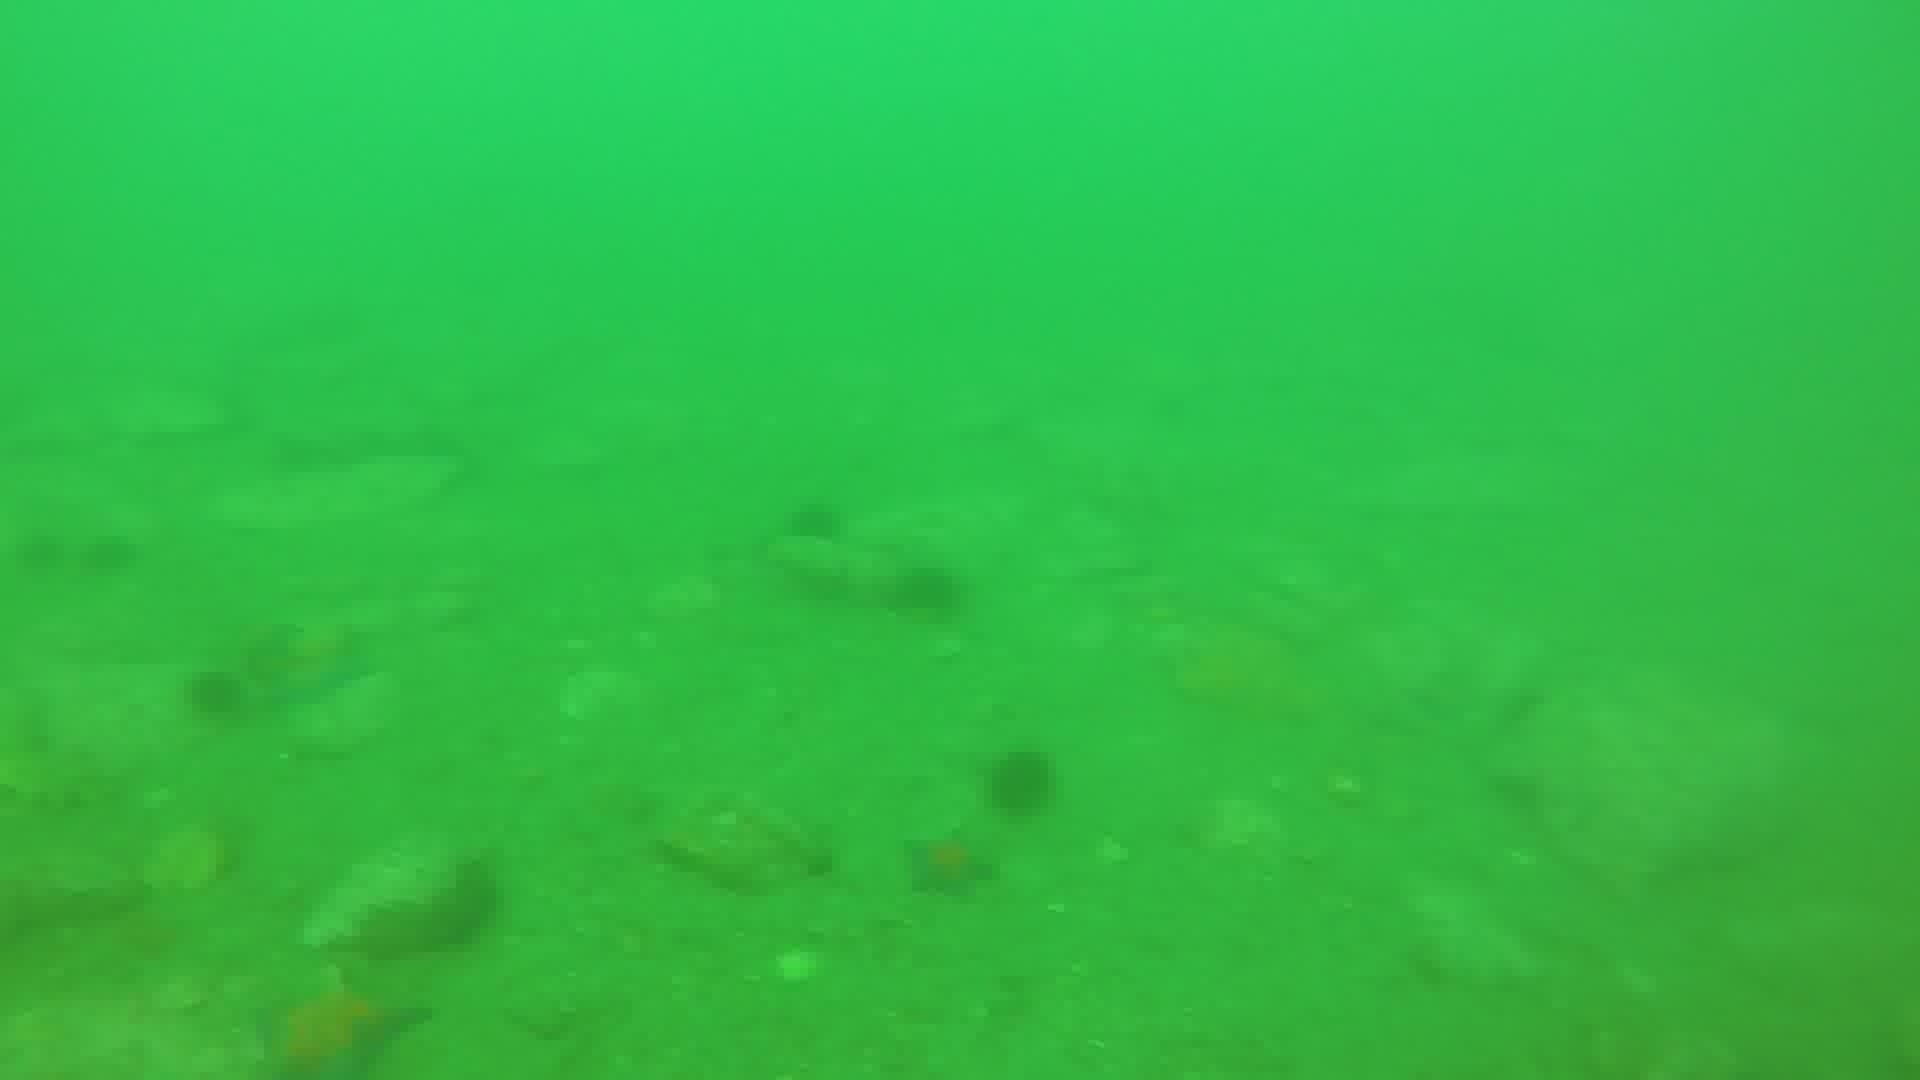echinus: (980, 744, 1062, 820), (886, 558, 969, 626), (179, 665, 251, 725), (781, 495, 849, 549), (76, 527, 142, 582)
starfish: (252, 967, 434, 1077), (899, 825, 1001, 905)
